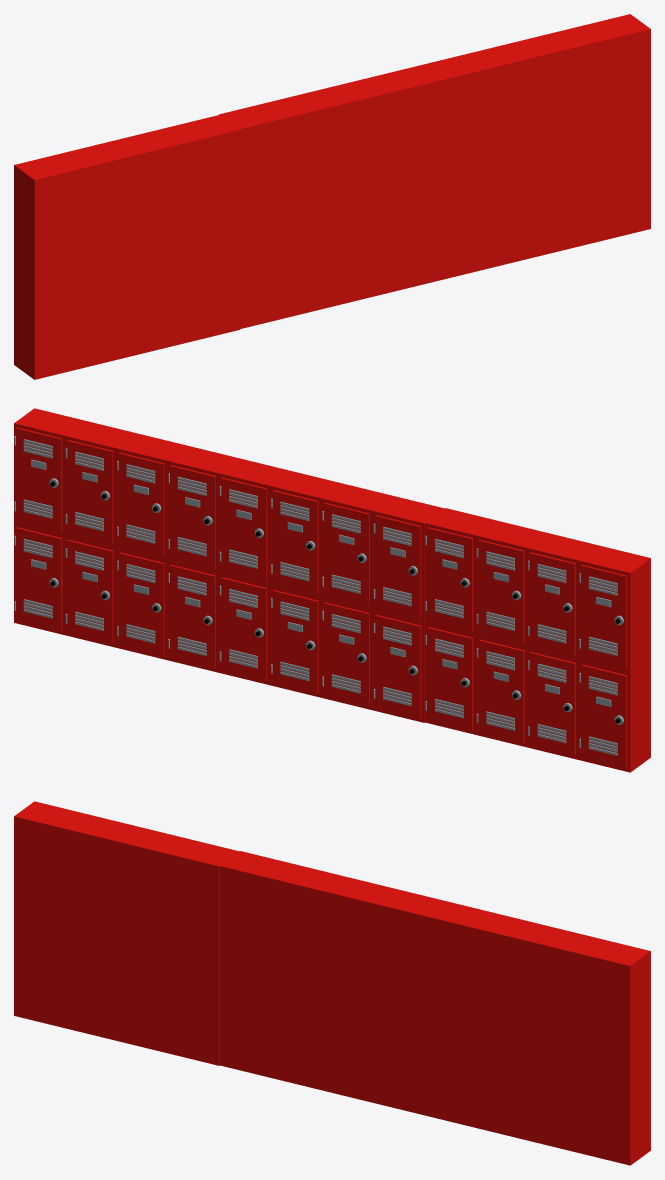
The picture shows the model from 3 angles, top to bottom: view 1: azimuth 30°, elevation 25°; view 2: azimuth 150°, elevation 25°; view 3: azimuth 330°, elevation 25°; orthographic projection.
Visible parts, largest first — view 1: group884752608, group691438954, group1081461935, group1117316339, group1709925510, group1880254766; view 2: group884752608, group1709925510, group691438954, group1880254766, group1117316339, group1081461935; view 3: group1880254766, group1081461935, group691438954, group884752608, group1117316339, group1709925510.
Boxes of the visible parts, x1,y1,x2,y2 form: group884752608: (14,140,137,379); group691438954: (322,64,445,303); group1081461935: (117,115,240,354); group1117316339: (219,89,342,328); group1709925510: (425,39,547,278); group1880254766: (528,14,650,253); group884752608: (527,533,650,772); group1709925510: (116,433,239,672); group691438954: (219,458,341,697); group1880254766: (14,408,136,647); group1117316339: (322,483,444,722); group1081461935: (425,508,547,747); group1880254766: (527,926,650,1165); group1081461935: (116,826,239,1065); group691438954: (322,876,445,1115); group884752608: (14,801,136,1040); group1117316339: (220,851,342,1090); group1709925510: (425,901,547,1140).
Bounding box in the file's own units: 5.88 × 1.82 × 0.41.
